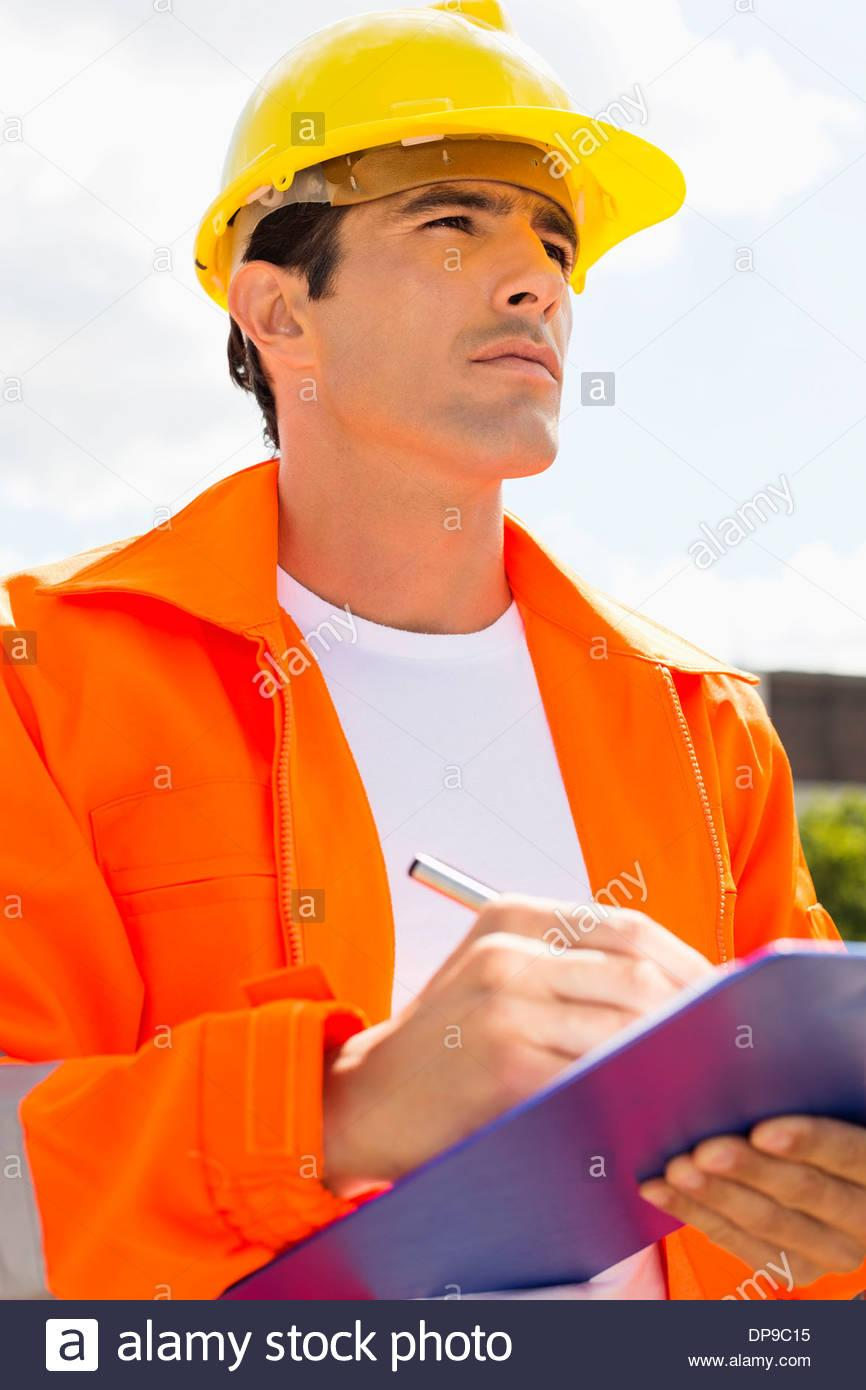helmet: (183, 15, 669, 267)
